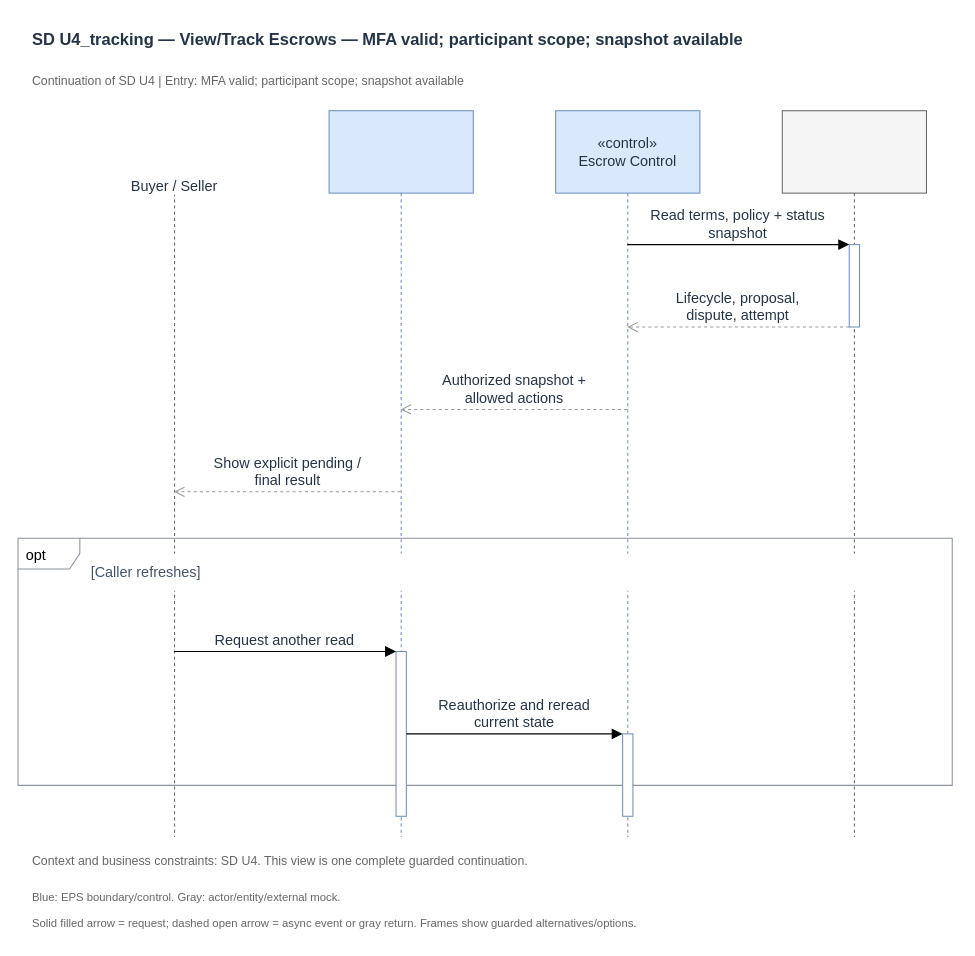
Image size: 975x956. Some labels were removed from this diagram. The shapes that lost their labels are listed below. From the top down, each one's box as (x1, y1, x2, y2) in pixels, then its label:
(328, 110, 473, 837): «boundary» Escrow UI
(781, 110, 926, 837): «entity» Escrow
